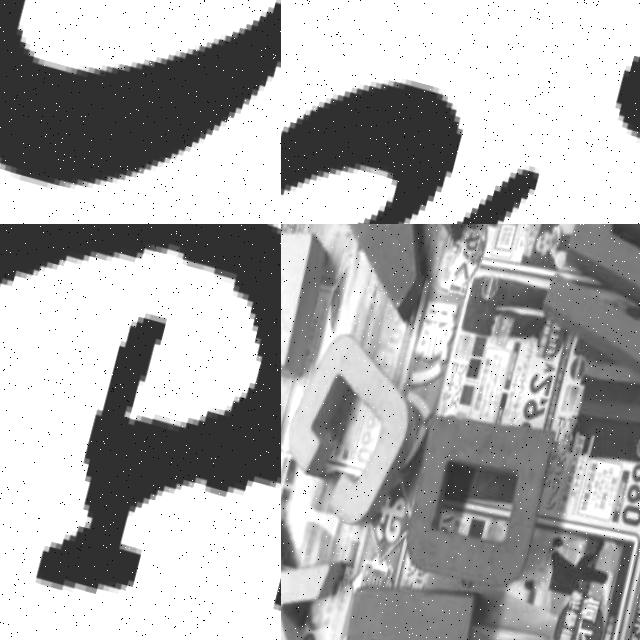3: (281, 0, 640, 224)
5: (0, 0, 281, 224)
C: (281, 327, 427, 529)
D: (387, 395, 562, 600)
E: (313, 546, 495, 640)
G: (0, 224, 281, 640)
L: (281, 224, 337, 387)
N: (308, 224, 480, 330)
W: (532, 224, 640, 374)
X: (281, 483, 355, 640)
